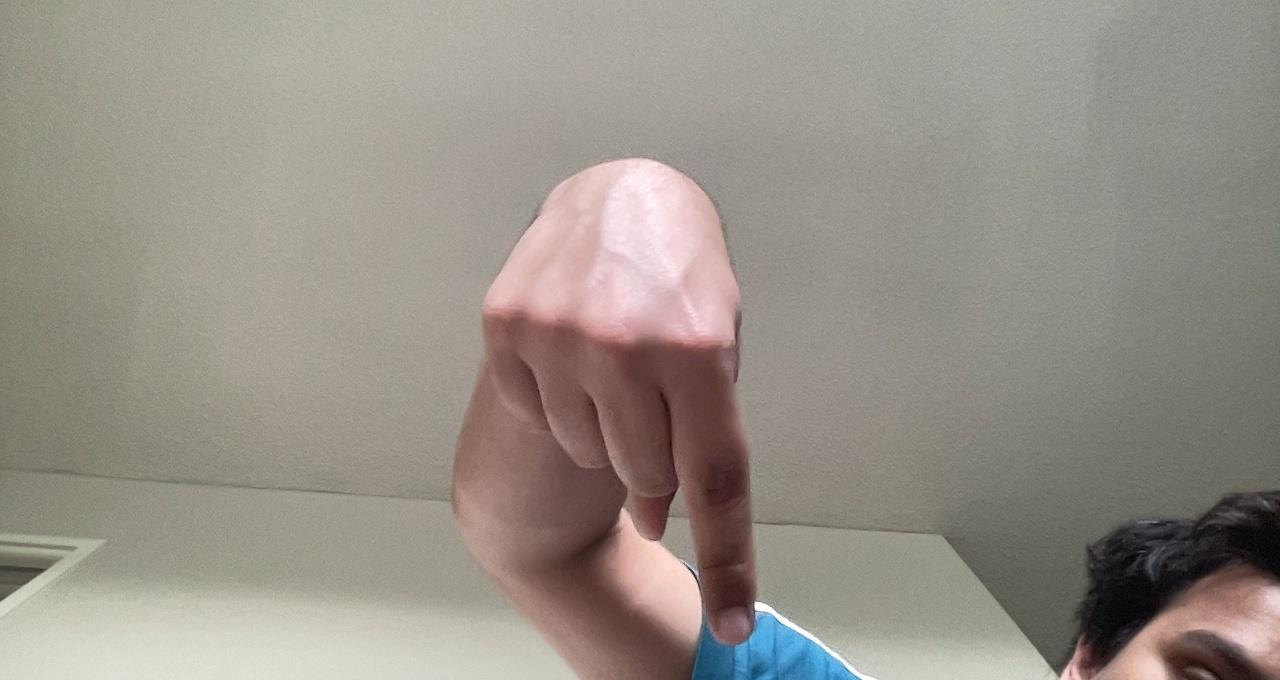fingerdown: (478, 146, 765, 655)
